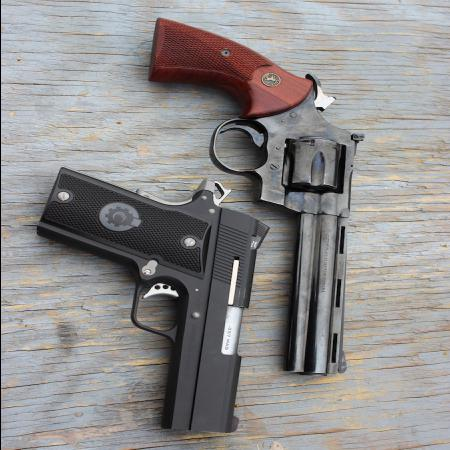Pistol: (150, 14, 366, 382), (45, 156, 269, 434)
